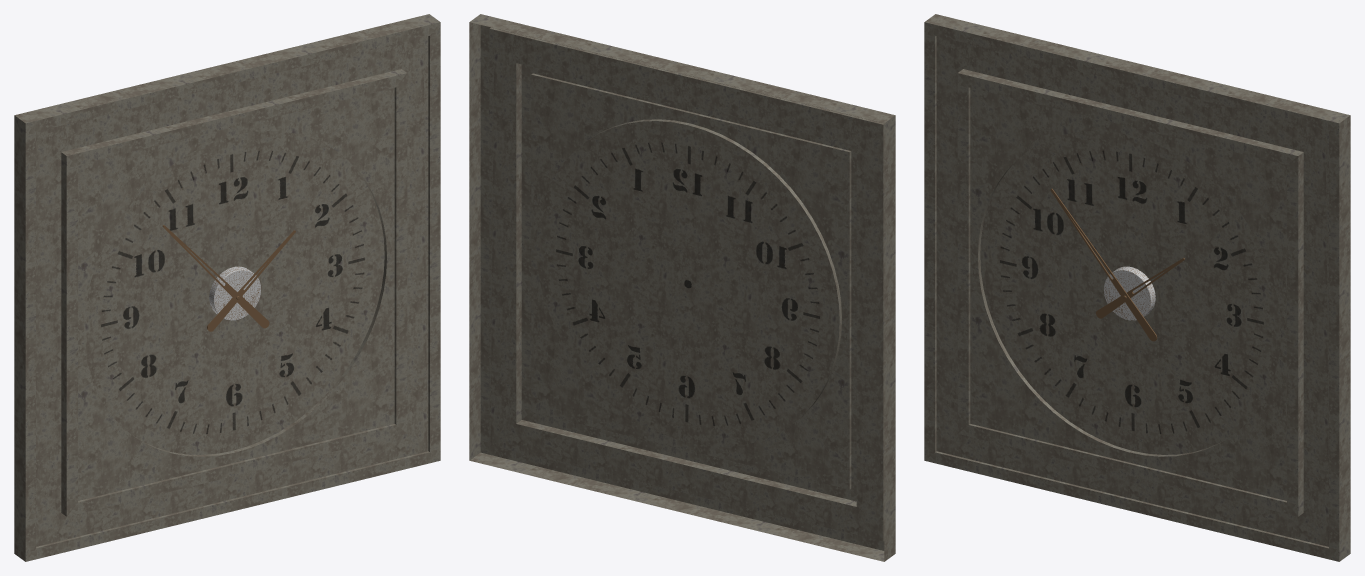
The model's file is clock00.dae.
3 renders of one model, left to right at view 1: azimuth 30°, elevation 25°; view 2: azimuth 150°, elevation 25°; view 3: azimuth 330°, elevation 25°, orthographic.
Parts seen in each view (by area): view 1: SketchUp (×5), group_4, group_0, group_2; view 2: SketchUp (×5); view 3: SketchUp (×5), group_4, group_0, group_2.
Part boxes in pixels (x1,y1,x2,y2): SketchUp (×5): (14,14,440,561); group_4: (209,266,260,320); group_0: (162,225,269,328); group_2: (207,230,295,331); SketchUp (×5): (469,14,895,561); SketchUp (×5): (924,14,1350,561); group_4: (1104,266,1155,320); group_0: (1050,188,1157,341); group_2: (1096,258,1184,318).
Bounding box in the file's own units: 18.81 × 1.38 × 19.
